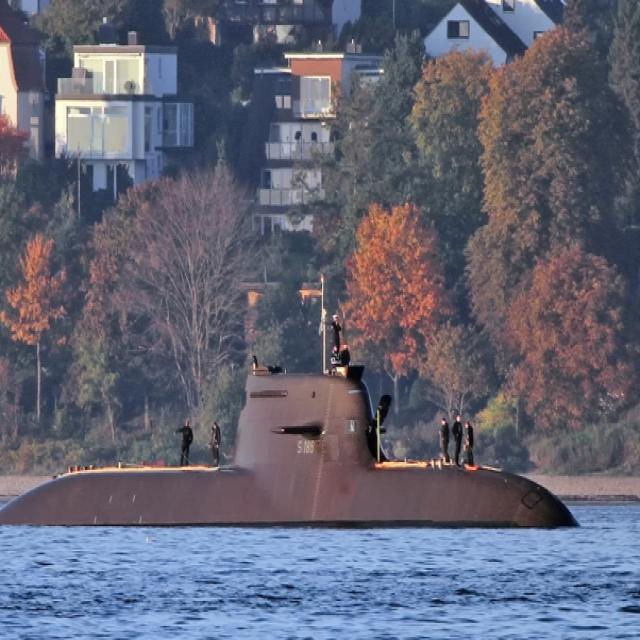submarine: (1, 368, 586, 529)
